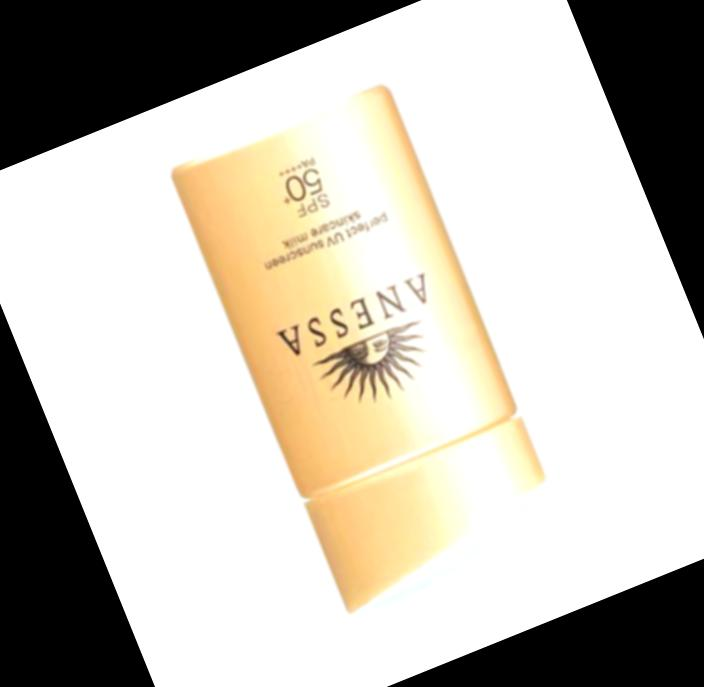cosmetic: (168, 87, 566, 620)
